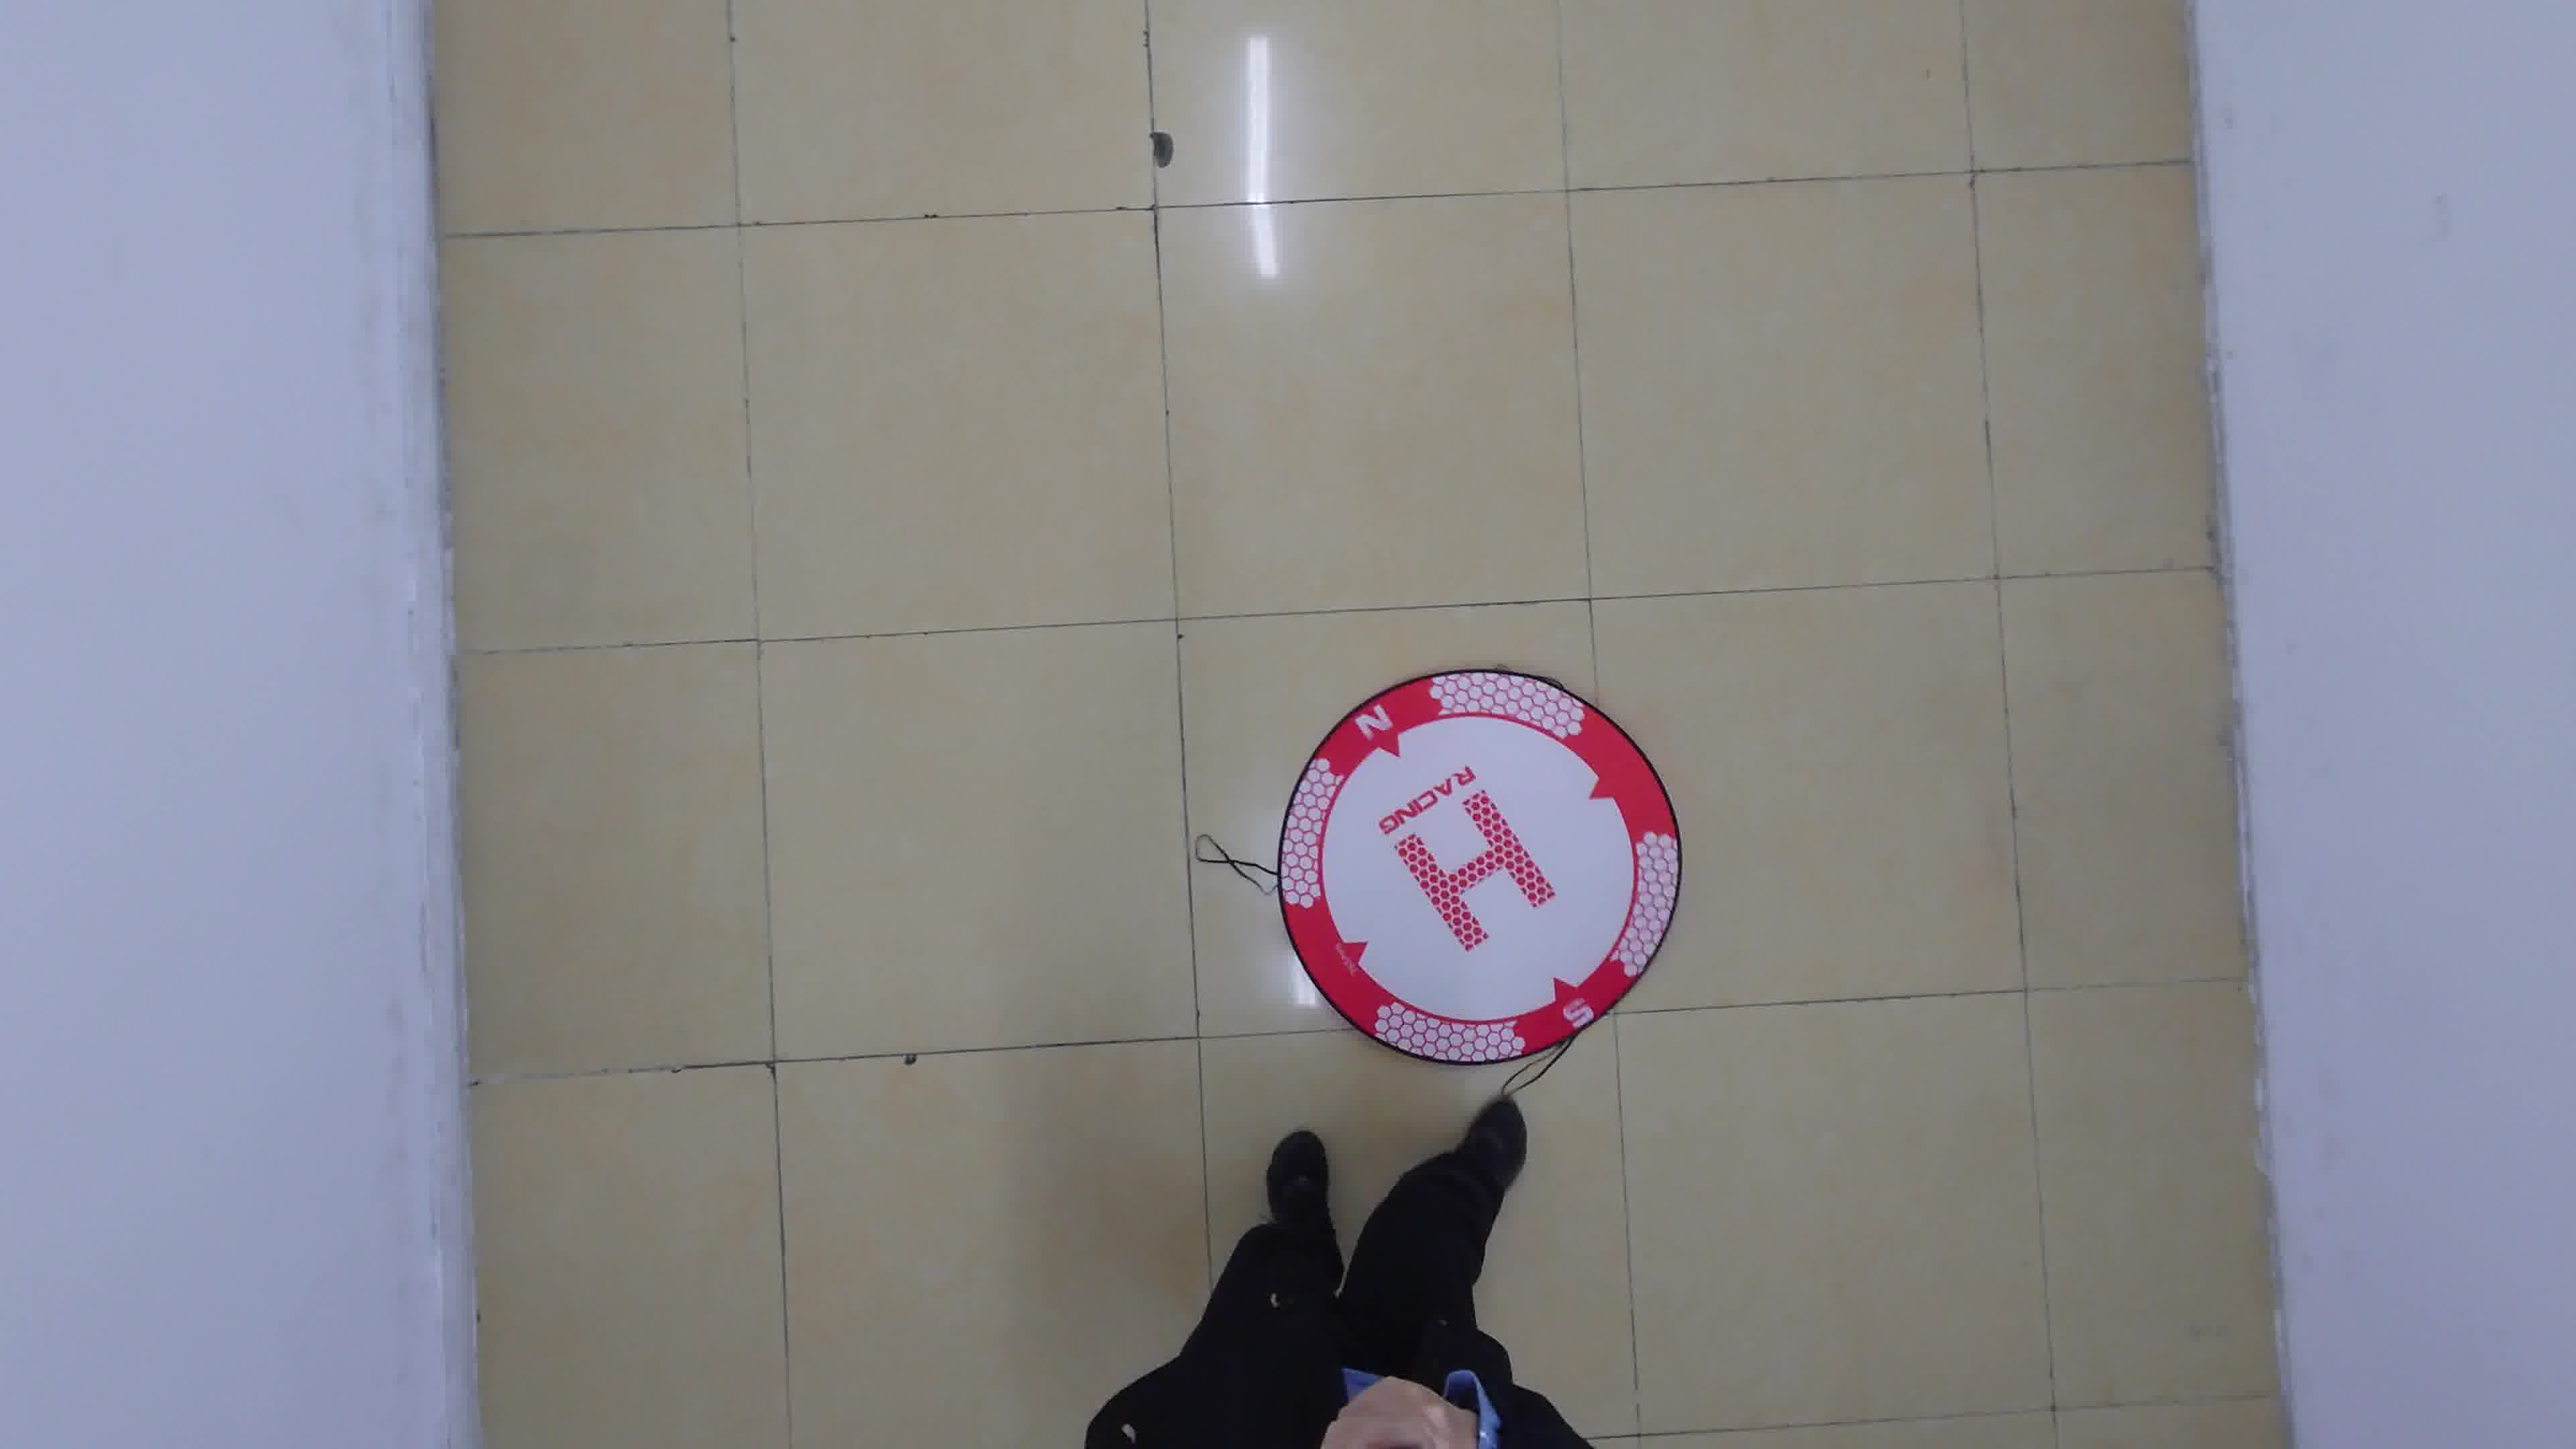H: (1394, 789, 1557, 952)
